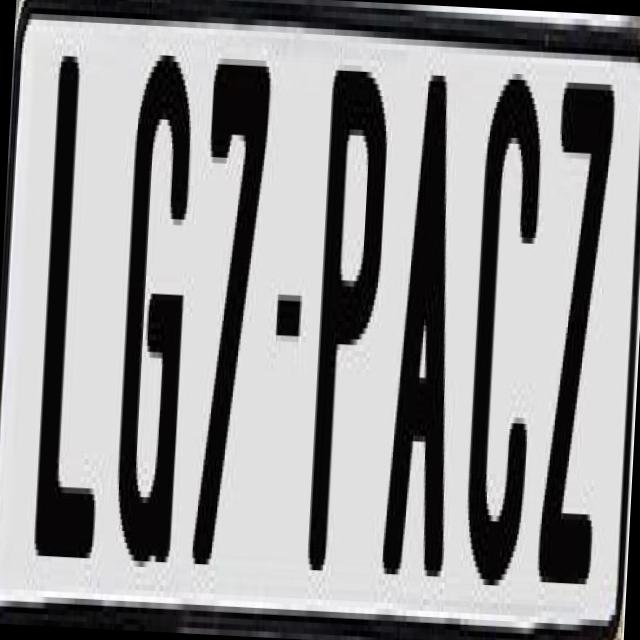7: (183, 64, 270, 578)
A: (376, 73, 468, 594)
C: (461, 55, 552, 588)
G: (110, 48, 203, 598)
L: (32, 56, 125, 565)
P: (303, 64, 387, 567)
Z: (534, 76, 620, 614)
